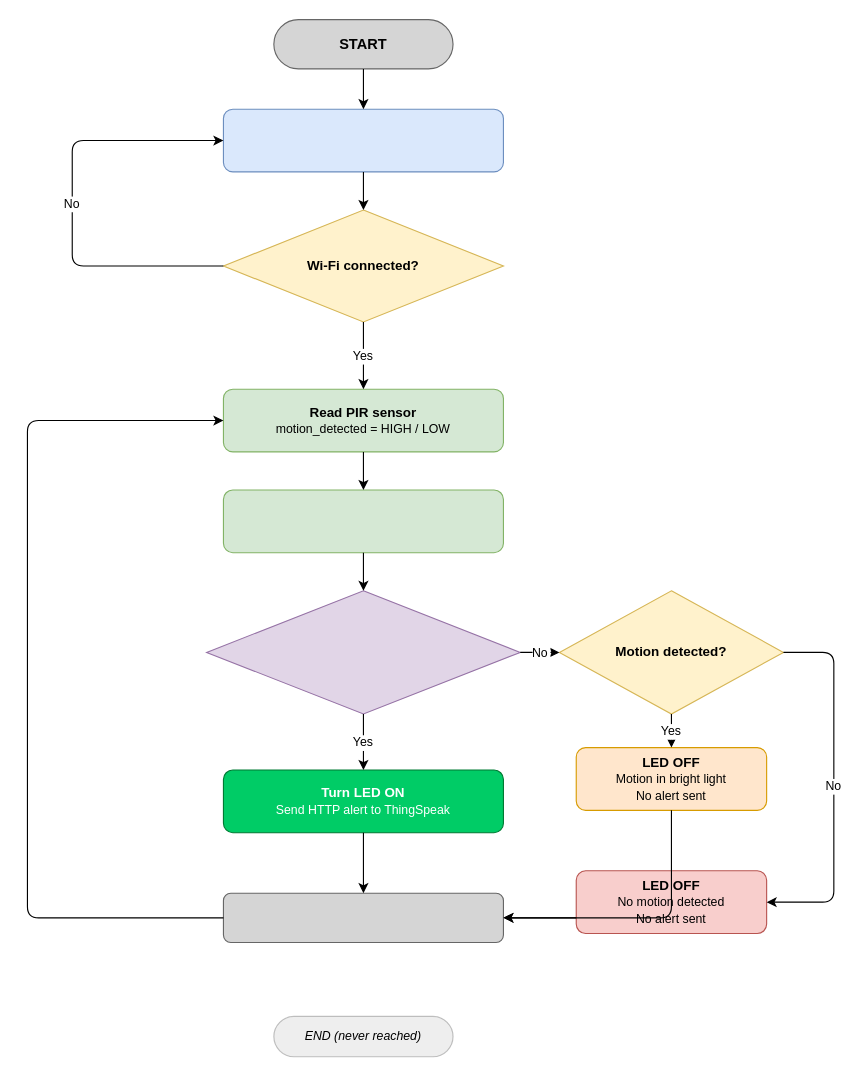
Some shapes in this 862 by 1076 pixel diagram are drawn without their labels. Each missing label, with the centre of its shape:
"Initialize system GPIO pins, Serial, Wi-Fi, ThingSpeak" goes at point (362, 140).
"Motion AND ldr_value < 50?" goes at point (363, 652).
"Read LDR sensor ldr_value = analogRead (0–4095)" goes at point (362, 521).
"Wait 15 seconds" goes at point (362, 917).
